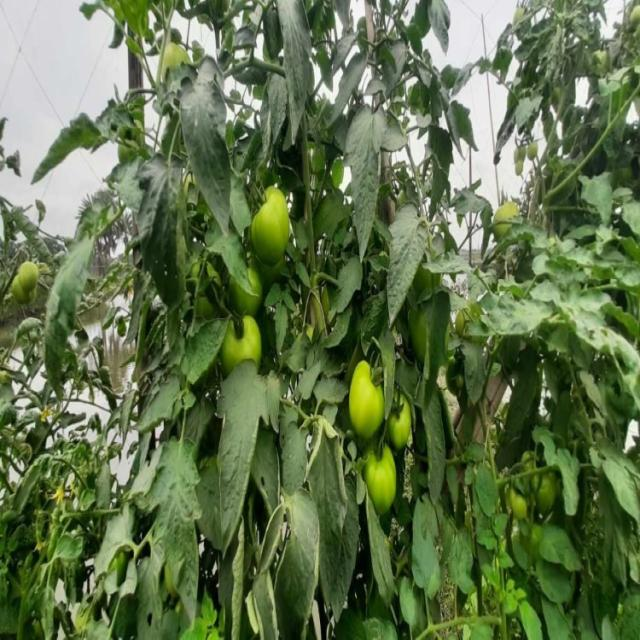tomato: (254, 178, 302, 249), (347, 360, 387, 435), (356, 449, 400, 511), (217, 318, 260, 380), (194, 251, 224, 312), (230, 261, 270, 303), (495, 485, 530, 531), (14, 261, 46, 311), (489, 193, 521, 241), (163, 40, 200, 78), (393, 398, 419, 451), (536, 479, 564, 513), (515, 140, 540, 176), (585, 51, 607, 72), (521, 451, 539, 475), (627, 2, 640, 29)
